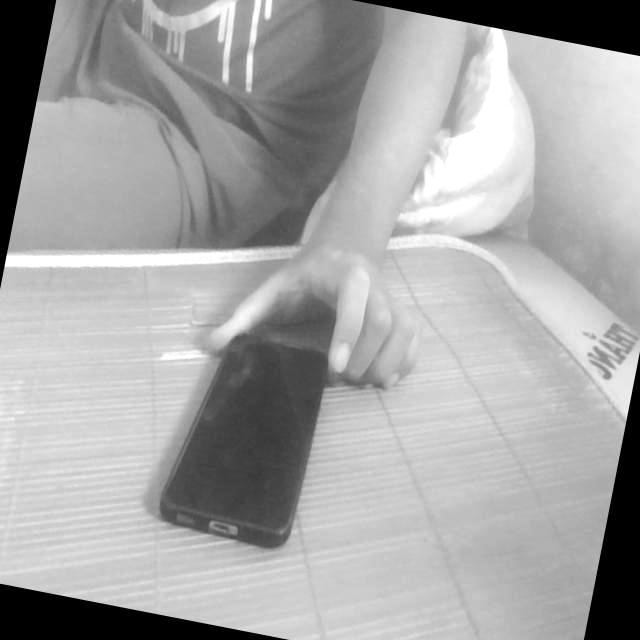phone: (138, 303, 355, 572)
